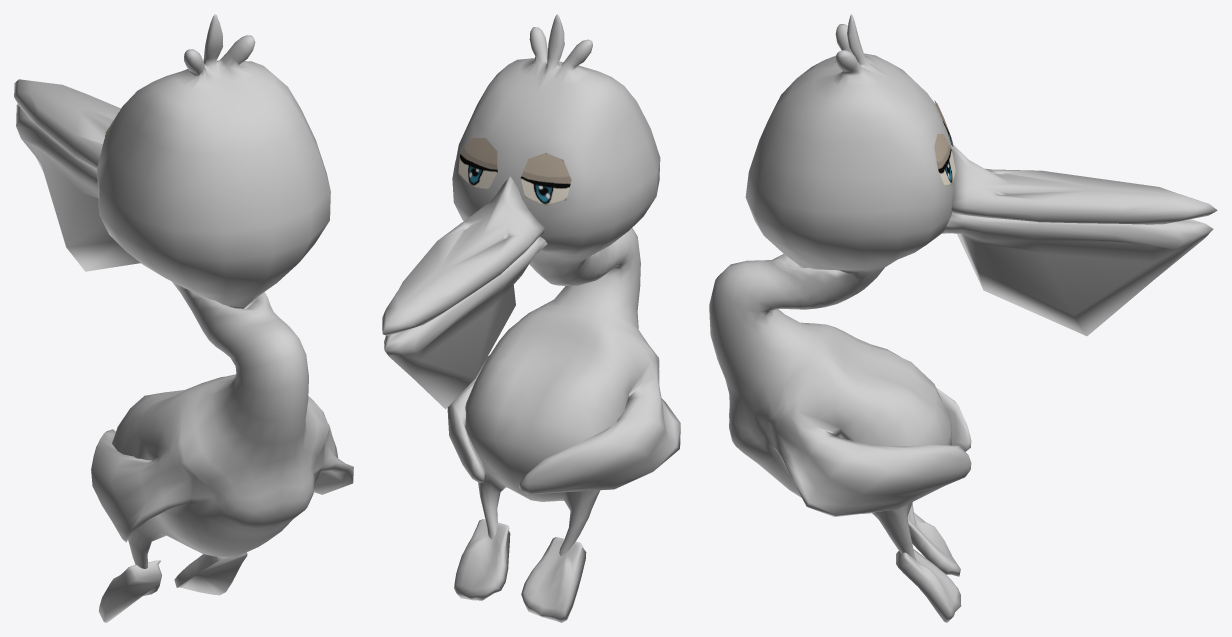
Rendered from M_NPC_Pelichest.fbx.
3 renders of one model, left to right at view 1: azimuth 30°, elevation 25°; view 2: azimuth 150°, elevation 25°; view 3: azimuth 270°, elevation 25°, orthographic. The views are drawn at different scales.
Parts seen in each view (by area): view 1: BecAbove_Pelican.003; view 2: BecAbove_Pelican.003; view 3: BecAbove_Pelican.003.
Boxes of the visible parts, <box> form: BecAbove_Pelican.003: <box>14,14,353,622</box>; BecAbove_Pelican.003: <box>382,14,680,622</box>; BecAbove_Pelican.003: <box>709,14,1217,622</box>.
Bounding box in the file's own units: 2.16 × 5.76 × 4.55.
